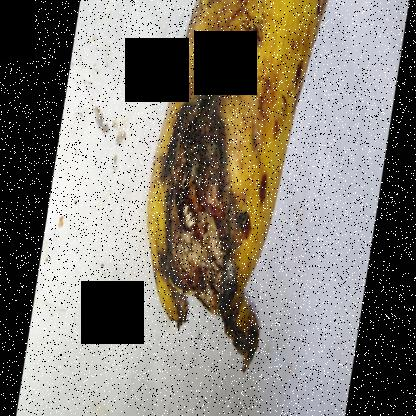rotten: (130, 69, 277, 342)
